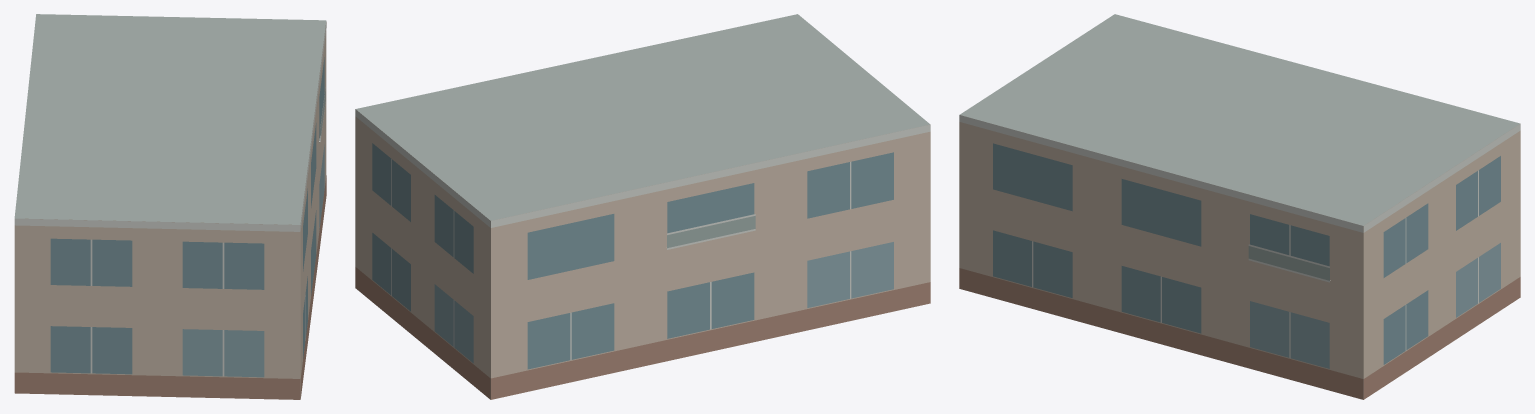
The model's file is survey-upis-32954971.glb.
3 renders of one model, left to right at view 1: azimuth 30°, elevation 25°; view 2: azimuth 150°, elevation 25°; view 3: azimuth 270°, elevation 25°, orthographic. The views are drawn at different scales.
Parts seen in each view (by area): view 1: survey-upis-32954971.tmp; view 2: survey-upis-32954971.tmp; view 3: survey-upis-32954971.tmp.
Boxes of the visible parts, left/top/right/bottom form: survey-upis-32954971.tmp: left=14, top=14, right=326, bottom=399; survey-upis-32954971.tmp: left=355, top=14, right=930, bottom=399; survey-upis-32954971.tmp: left=959, top=14, right=1520, bottom=399.
Size of the model in its own units: 15.96 by 6.1 by 17.85.
